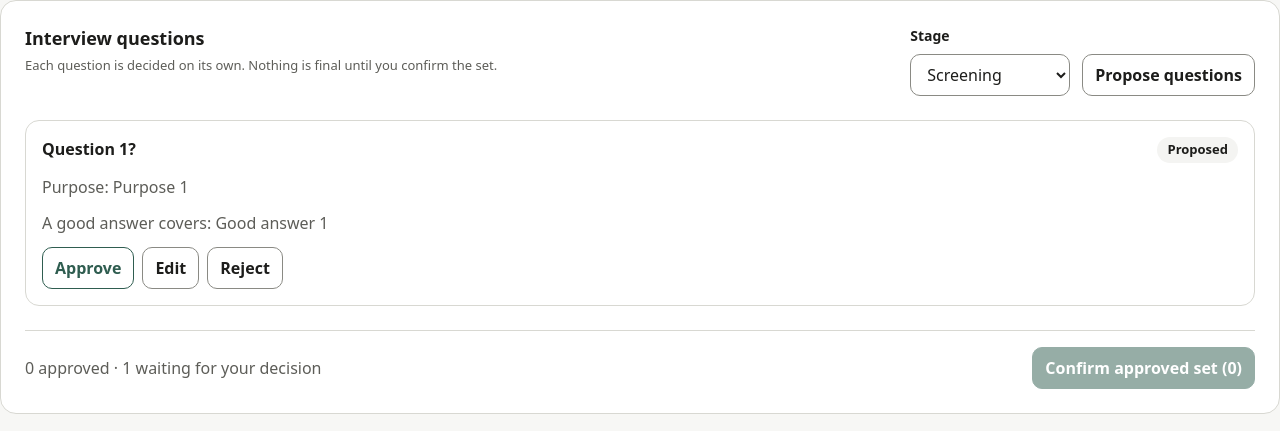
it: QuestionReview › clears the previous stage when the next stage fails to load
The image size is (1280, 431).
Check: the text "Question 1?" is shown, box top-left (42, 137), bottom-right (136, 161)
Select "Technical" in the dropdown labelled "Stage" at [990, 75], box top-left (910, 54), bottom-right (1070, 96)
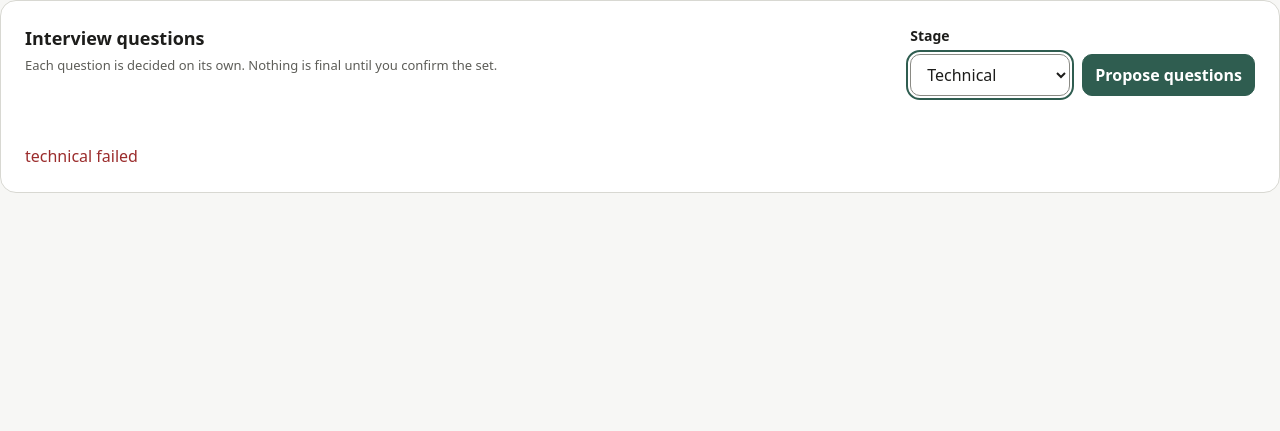
Check: the text "Question 1?" is not shown
Check: the text "technical failed" is shown, box top-left (25, 145), bottom-right (138, 167)
Check: the button "Approve" is gone
